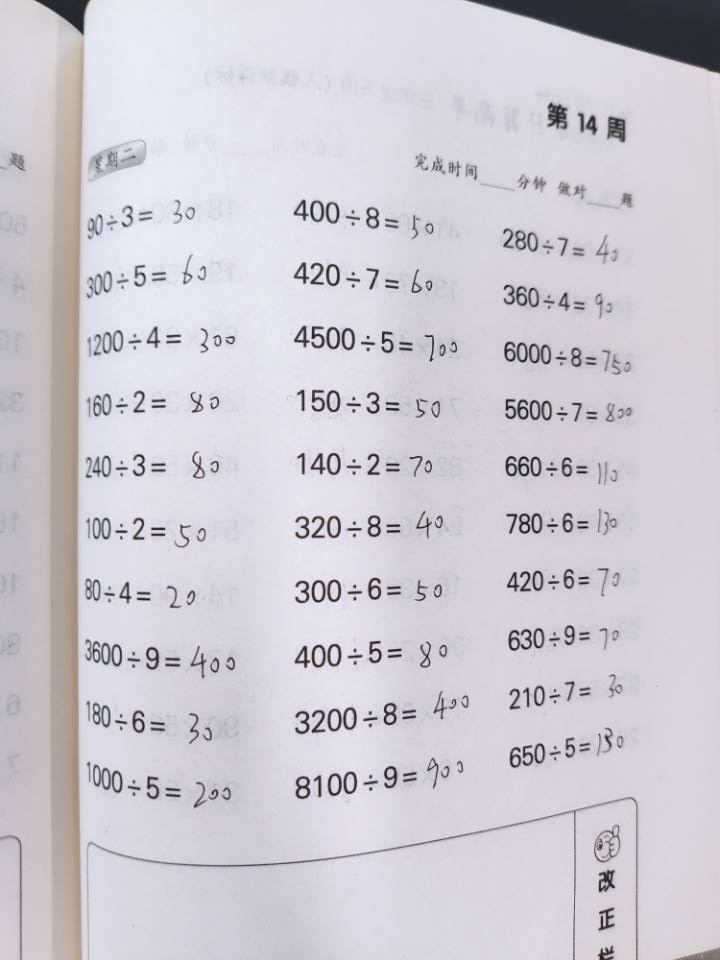equation: (562, 329, 614, 567), (511, 324, 559, 577), (562, 632, 611, 855), (235, 331, 277, 579), (536, 111, 592, 292), (236, 628, 281, 848), (470, 355, 511, 583), (325, 640, 367, 861), (193, 356, 233, 584), (425, 356, 464, 583), (378, 352, 417, 576), (284, 359, 324, 576), (248, 99, 289, 303), (331, 353, 369, 572), (142, 677, 188, 855), (376, 667, 418, 860), (148, 348, 184, 573), (188, 675, 232, 856), (473, 621, 506, 860), (334, 116, 375, 301), (168, 117, 208, 300), (501, 116, 540, 303), (520, 664, 556, 864), (284, 647, 319, 851), (292, 99, 328, 297), (424, 671, 460, 864), (463, 115, 500, 301), (418, 119, 454, 299), (209, 119, 244, 301), (379, 120, 413, 301)
